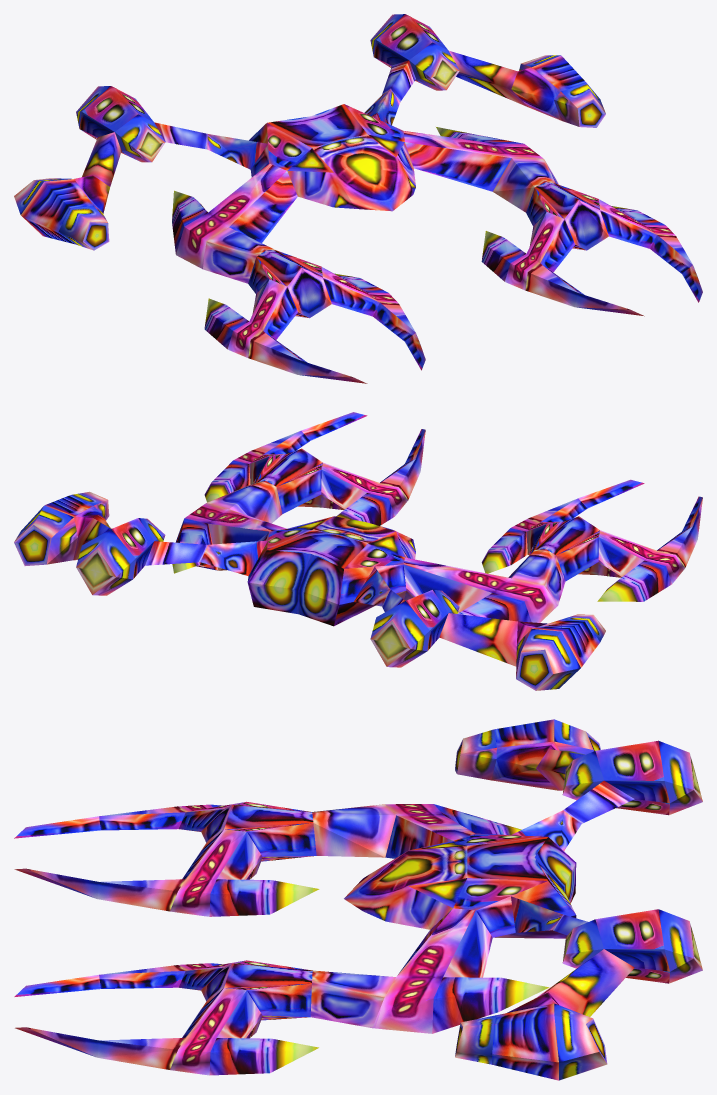
File: boss-04.fbx
3 renders of one model, top to bottom at view 1: azimuth 30°, elevation 25°; view 2: azimuth 150°, elevation 25°; view 3: azimuth 270°, elevation 25°, orthographic. The views are drawn at different scales.
Visible parts, largest first — view 1: boss-04; view 2: boss-04; view 3: boss-04.
Boxes of the visible parts, left/top/right/bottom form: boss-04: left=14, top=14, right=702, bottom=383; boss-04: left=14, top=412, right=702, bottom=690; boss-04: left=14, top=719, right=702, bottom=1080.
Bounding box in the file's own units: 208 × 37.27 × 189.
